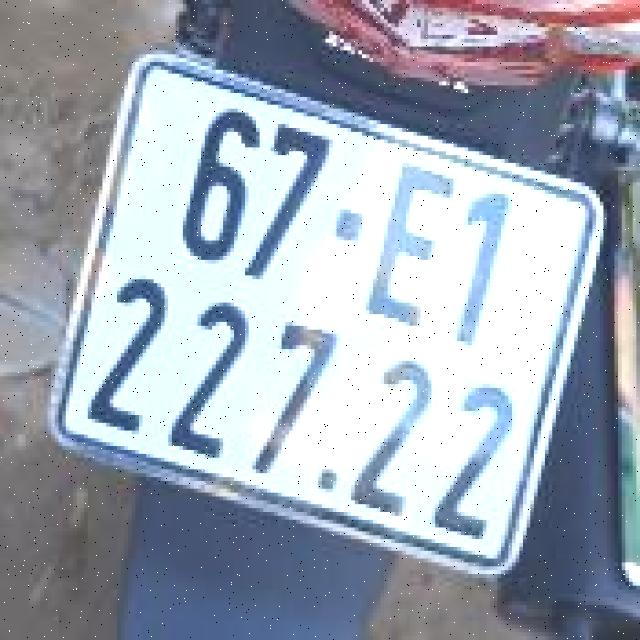1: (448, 171, 517, 353)
2: (346, 339, 448, 541), (428, 372, 527, 562), (82, 264, 178, 454), (168, 289, 256, 487)
6: (172, 95, 263, 285)
7: (243, 103, 335, 293), (258, 285, 342, 487)
E: (370, 152, 458, 338)
